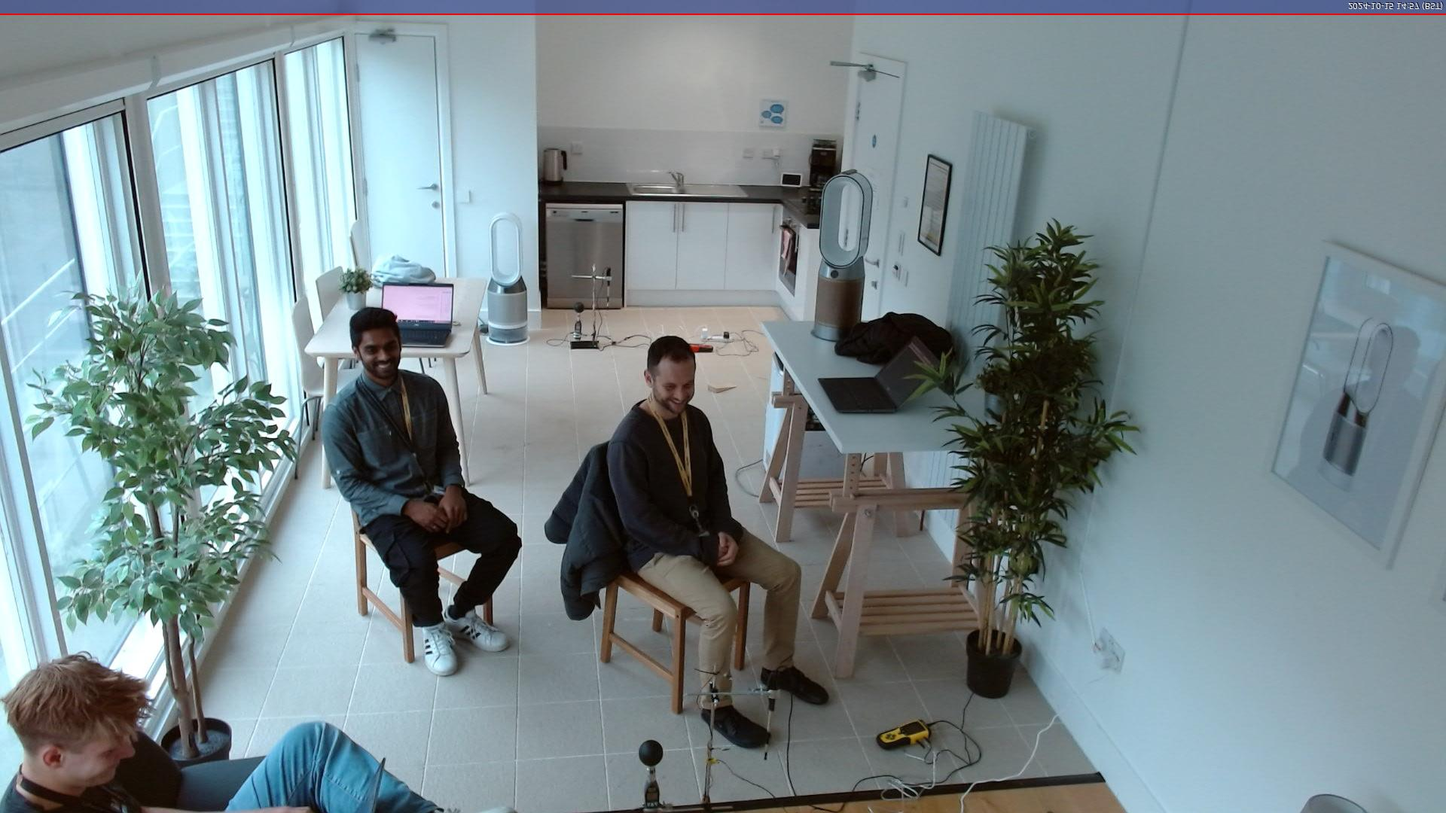long sleeve shirt: (317, 367, 468, 526)
sweater: (608, 398, 738, 569)
trousers: (636, 526, 804, 707), (361, 490, 523, 632), (218, 718, 444, 813)
